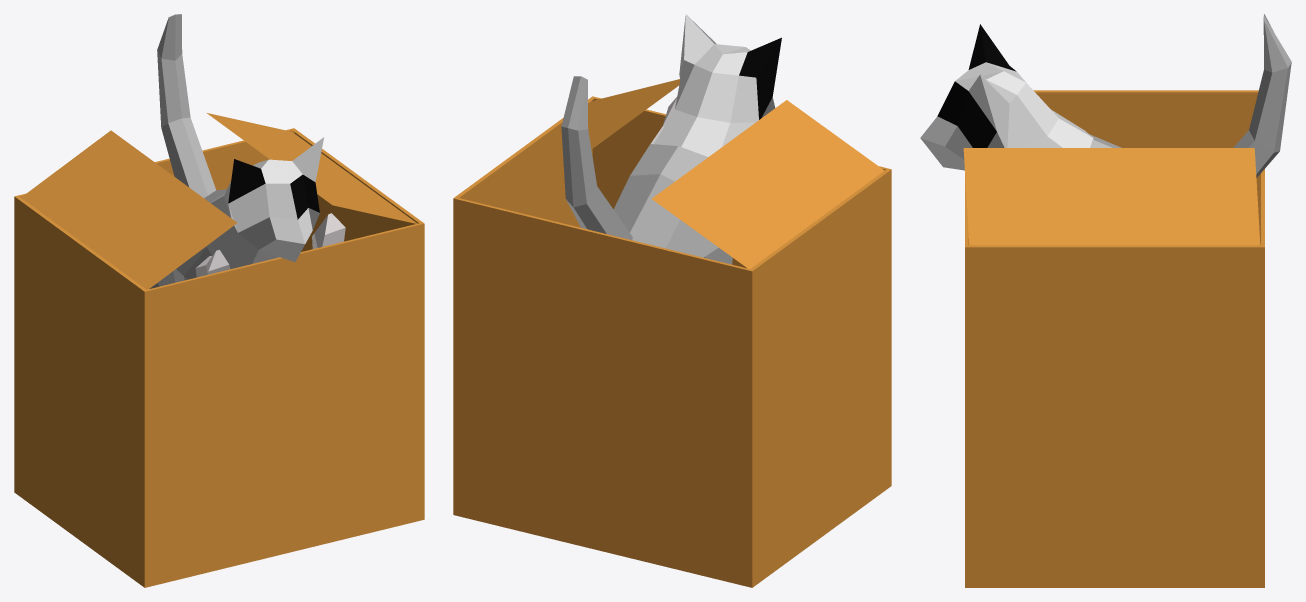
Rendered from CatInBox.fbx.
3 renders of one model, left to right at view 1: azimuth 30°, elevation 25°; view 2: azimuth 150°, elevation 25°; view 3: azimuth 270°, elevation 25°, orthographic. The views are drawn at different scales.
Parts seen in each view (by area): view 1: ORIGAMI_Chat.003; view 2: ORIGAMI_Chat.003; view 3: ORIGAMI_Chat.003.
Boxes of the visible parts, x1=… form: ORIGAMI_Chat.003: x1=14, y1=14, x2=424, y2=587; ORIGAMI_Chat.003: x1=453, y1=14, x2=891, y2=587; ORIGAMI_Chat.003: x1=920, y1=14, x2=1291, y2=587.
Bounding box in the file's own units: 100 × 150 × 100.
